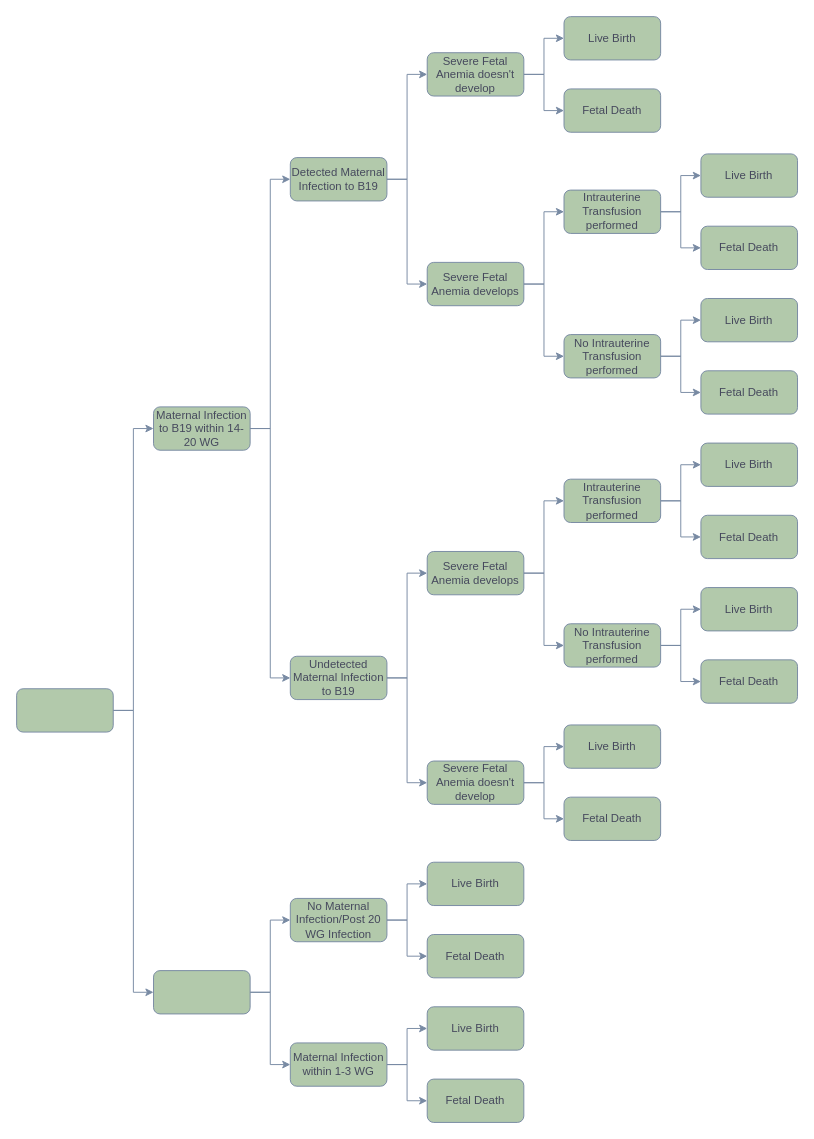
Some shapes in this 814 by 1139 pixel diagram are drawn without their labels. Here are the shapes that lost their labels. From the top down, the centre of each, then its label:
pixel 64 710: Susceptible Pregnant Individuals
pixel 201 992: Maternal Infection to B19 not within 14-20 WG
